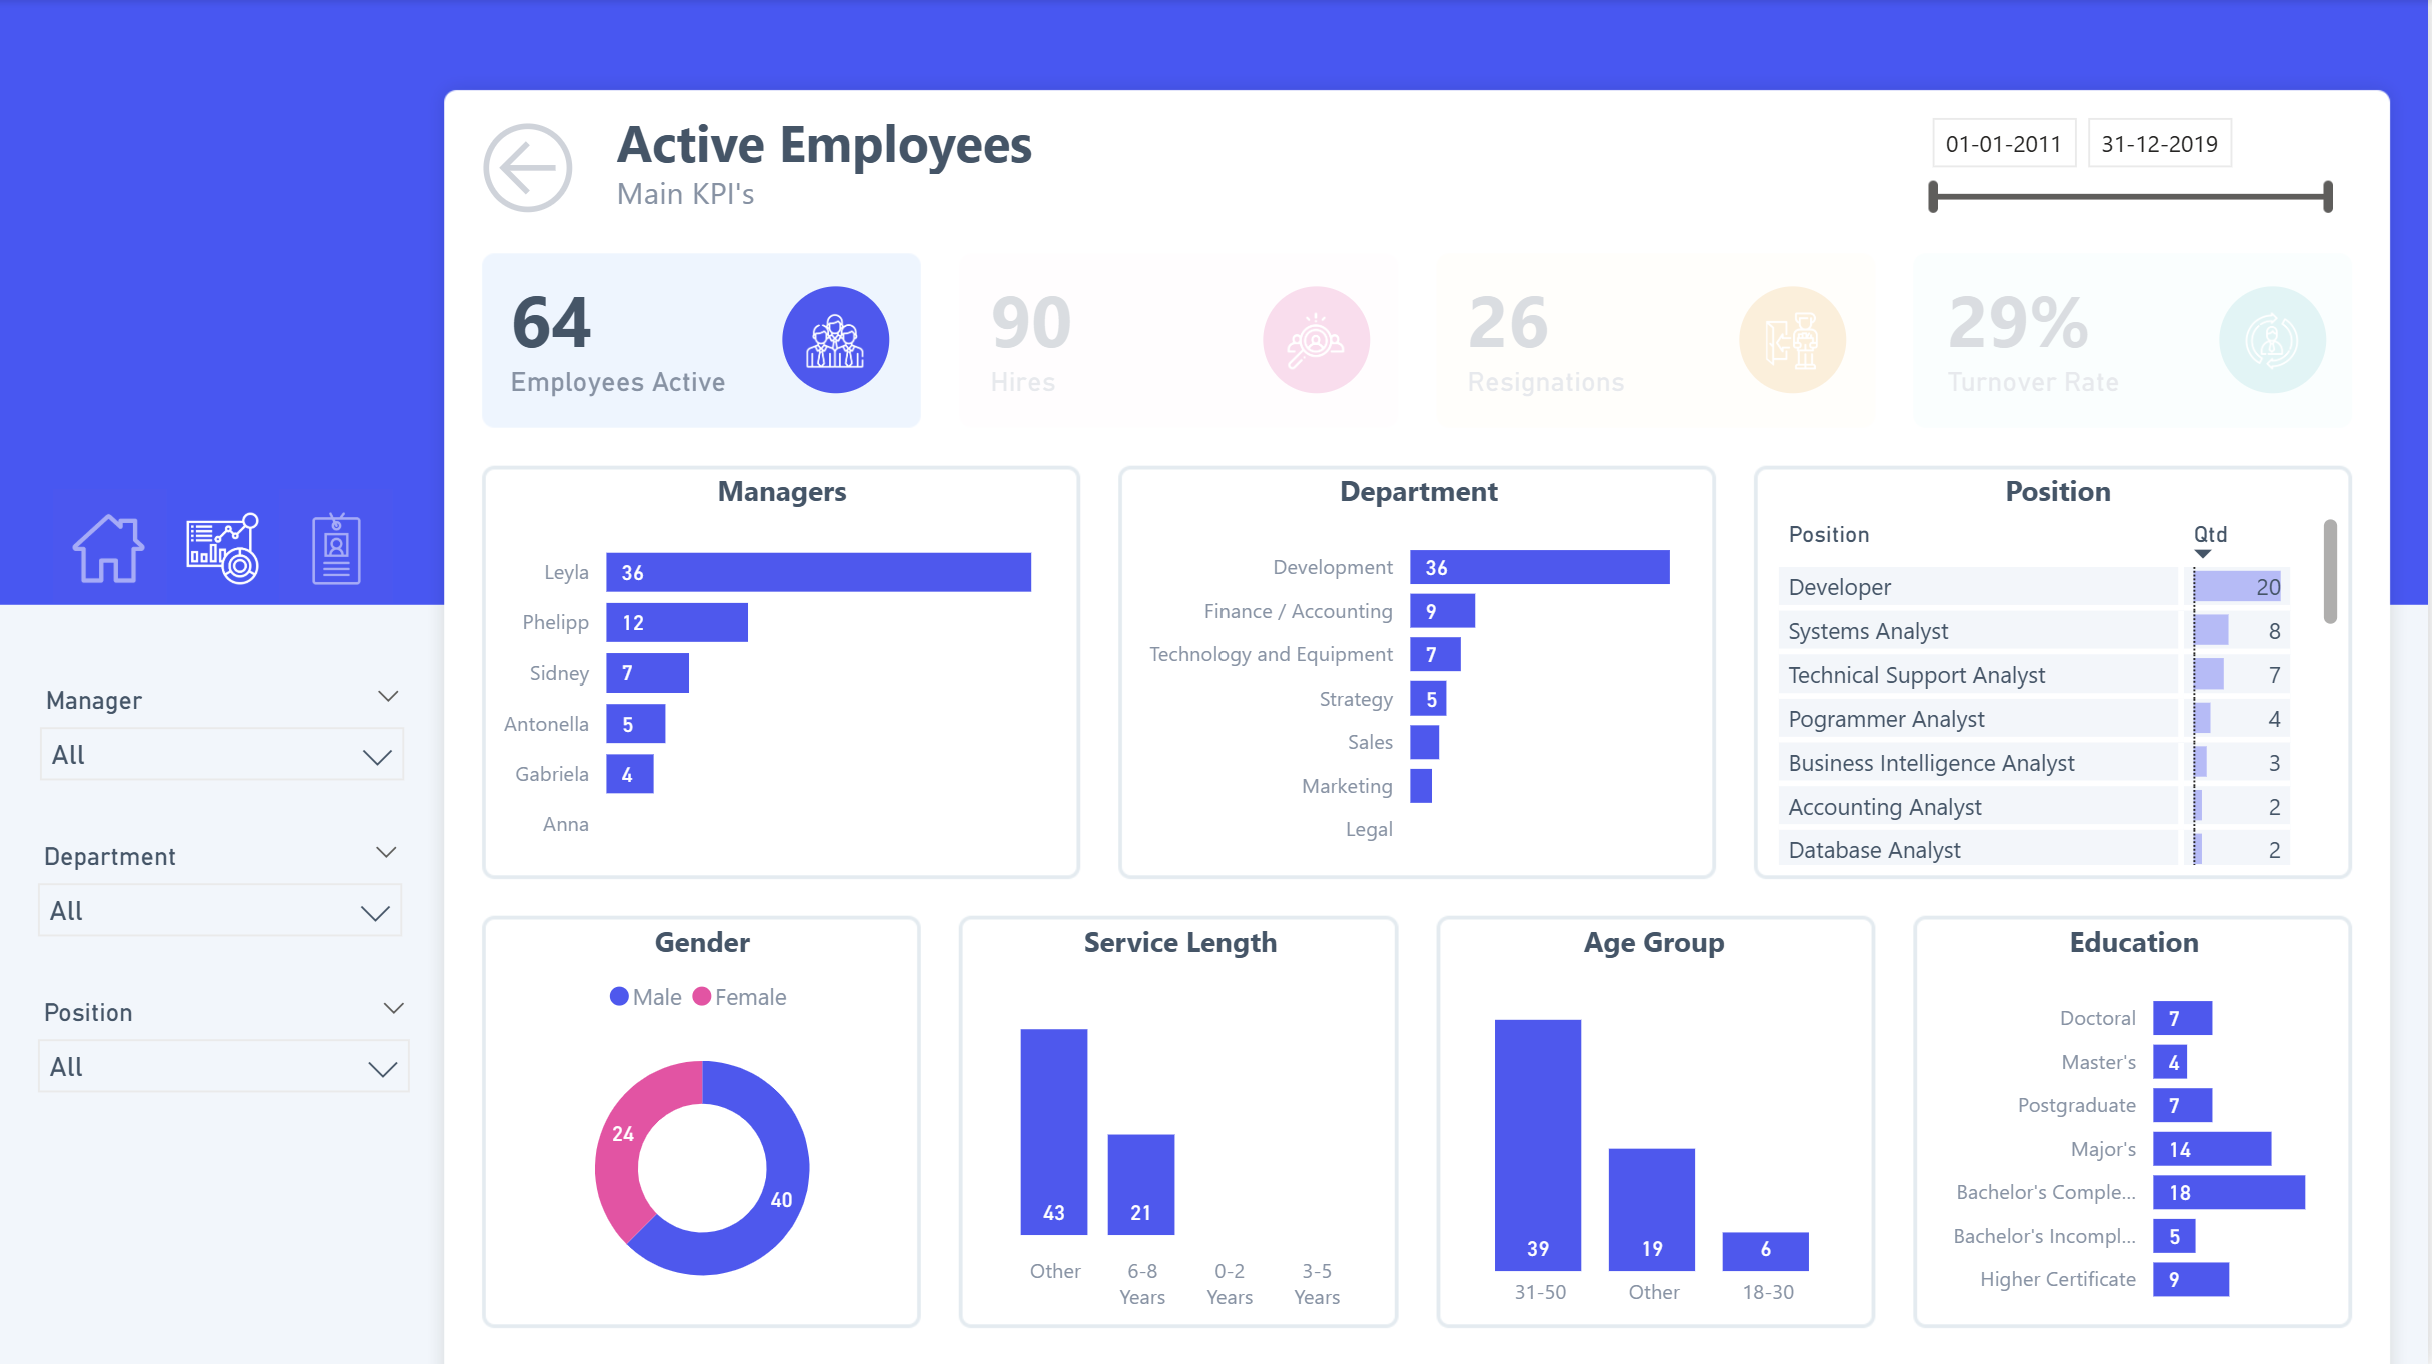

Layout of this report page (visuals, bound fields, positions):
{"tool":"powerbi","page":{"name":"Active Employees","canvas":[1280,720],"ordinal":1},"visuals":[{"type":"multiRowCard","fields":{"Values":["_Measures.Employees Active"]},"box":[265,138,164,84],"z":0,"group":"g4"},{"type":"multiRowCard","fields":{"Values":["_Measures.Hired"]},"box":[518,138,164,84],"z":0,"group":"g1"},{"type":"multiRowCard","fields":{"Values":["_Measures.Terminated"]},"box":[768,138,164,84],"z":0,"group":"g2"},{"type":"multiRowCard","fields":{"Values":["_Measures.Turnover Rate"]},"box":[1022,138,164,84],"z":0,"group":"g3"},{"type":"clusteredBarChart","title":"Education","fields":{"Category":["fEmployee.Education"],"Y":["_Measures.Employees Active"]},"box":[1012,486,226,212],"z":0},{"type":"textbox","box":[320,51.6,529.8,55.4],"z":1000},{"type":"basicShape","box":[410,149,62,62],"z":1000,"group":"g4"},{"type":"basicShape","box":[663,149,62,62],"z":1000,"group":"g1"},{"type":"basicShape","box":[913,149,62,62],"z":1000,"group":"g2"},{"type":"basicShape","box":[1167,149,62,62],"z":1000,"group":"g3"},{"type":"textbox","box":[320,85.1,529.8,42.5],"z":2000},{"type":"image","box":[421,160,40,40],"z":2000,"group":"g4"},{"type":"image","box":[674,160,40,40],"z":2000,"group":"g1"},{"type":"image","box":[924,160,40,40],"z":2000,"group":"g2"},{"type":"image","box":[1178,160,40,40],"z":2000,"group":"g3"},{"type":"actionButton","box":[248.5,58.7,59.9,59.9],"z":3000},{"type":"clusteredColumnChart","title":"Service Length","fields":{"Category":["fEmployee.Service Length (groups)"],"Y":["_Measures.Employees Active"]},"box":[509,486,227,212],"z":4000},{"type":"donutChart","title":"Gender","fields":{"Category":["fEmployee.Gender"],"Y":["_Measures.Employees Active"]},"box":[256,486,229,212],"z":5000},{"type":"clusteredColumnChart","title":"Age Group","fields":{"Category":["fEmployee.Age (groups)"],"Y":["_Measures.Employees Active"]},"box":[759,486,226,212],"z":6000},{"type":"clusteredBarChart","title":"Managers","fields":{"Category":["fEmployee.Manager"],"Y":["_Measures.Employees Active"]},"box":[256,249,313,212],"z":7000},{"type":"tableEx","title":"Position","fields":{"Values":["fEmployee.Position","_Measures.Employees Active"]},"box":[932,249,306,212],"z":8000},{"type":"clusteredBarChart","title":"Department","fields":{"Y":["_Measures.Employees Active"],"Category":["fEmployee.Department"]},"box":[591,249,313,212],"z":9000},{"type":"group","id":"g1","title":"Contratações","box":[518,138,207,84],"z":10000},{"type":"group","id":"g2","title":"Desligamentos","box":[768,138,207,84],"z":11000},{"type":"group","id":"g3","title":"Turnover","box":[1022,138,207,84],"z":12000},{"type":"group","id":"g4","title":"Colaboradores Ativos","box":[265,138,207,84],"z":13000},{"type":"slicer","fields":{"Values":["fEmployee.Manager"]},"box":[11.2,356.7,212,81.9],"z":14000},{"type":"slicer","fields":{"Values":["fEmployee.Position"]},"box":[11,521,216,82],"z":15000},{"type":"slicer","fields":{"Values":["fEmployee.Department"]},"box":[11,439,212,82],"z":16000},{"type":"slicer","fields":{"Values":["dDate.Date"]},"box":[1006.1,52.3,236.7,75.7],"z":17000},{"type":"basicShape","box":[495.8,117.4,753,121.1],"z":18000},{"type":"basicShape","box":[88,258,60,60],"z":19000},{"type":"image","box":[34,266,48,48],"z":20000},{"type":"image","box":[94,266,48,48],"z":21000},{"type":"image","box":[154,266,48,48],"z":22000},{"type":"basicShape","box":[28,258,60,60],"z":23000},{"type":"basicShape","box":[148,258,60,60],"z":24000},{"type":"actionButton","box":[28,260,60,60],"z":25000},{"type":"actionButton","box":[88,260,60,60],"z":26000},{"type":"actionButton","box":[148,260,60,60],"z":27000}]}

Visuals, with their boxes on the page's 1280x720 design canvas (x1, y1, x2, y2). These are canvas units, not pixel positions in the 2432x1364 screenshot, which may show the page scaled, cropped or inside an application window:
multiRowCard - _Measures.Employees Active: rect(265, 138, 429, 222)
multiRowCard - _Measures.Hired: rect(518, 138, 682, 222)
multiRowCard - _Measures.Terminated: rect(768, 138, 932, 222)
multiRowCard - _Measures.Turnover Rate: rect(1022, 138, 1186, 222)
"Education" clusteredBarChart: rect(1012, 486, 1238, 698)
textbox: rect(320, 52, 850, 107)
basicShape: rect(410, 149, 472, 211)
basicShape: rect(663, 149, 725, 211)
basicShape: rect(913, 149, 975, 211)
basicShape: rect(1167, 149, 1229, 211)
textbox: rect(320, 85, 850, 128)
image: rect(421, 160, 461, 200)
image: rect(674, 160, 714, 200)
image: rect(924, 160, 964, 200)
image: rect(1178, 160, 1218, 200)
actionButton: rect(248, 59, 308, 119)
"Service Length" clusteredColumnChart: rect(509, 486, 736, 698)
"Gender" donutChart: rect(256, 486, 485, 698)
"Age Group" clusteredColumnChart: rect(759, 486, 985, 698)
"Managers" clusteredBarChart: rect(256, 249, 569, 461)
"Position" tableEx: rect(932, 249, 1238, 461)
"Department" clusteredBarChart: rect(591, 249, 904, 461)
"Contratações" group: rect(518, 138, 725, 222)
"Desligamentos" group: rect(768, 138, 975, 222)
"Turnover" group: rect(1022, 138, 1229, 222)
"Colaboradores Ativos" group: rect(265, 138, 472, 222)
slicer - fEmployee.Manager: rect(11, 357, 223, 439)
slicer - fEmployee.Position: rect(11, 521, 227, 603)
slicer - fEmployee.Department: rect(11, 439, 223, 521)
slicer - dDate.Date: rect(1006, 52, 1243, 128)
basicShape: rect(496, 117, 1249, 238)
basicShape: rect(88, 258, 148, 318)
image: rect(34, 266, 82, 314)
image: rect(94, 266, 142, 314)
image: rect(154, 266, 202, 314)
basicShape: rect(28, 258, 88, 318)
basicShape: rect(148, 258, 208, 318)
actionButton: rect(28, 260, 88, 320)
actionButton: rect(88, 260, 148, 320)
actionButton: rect(148, 260, 208, 320)
